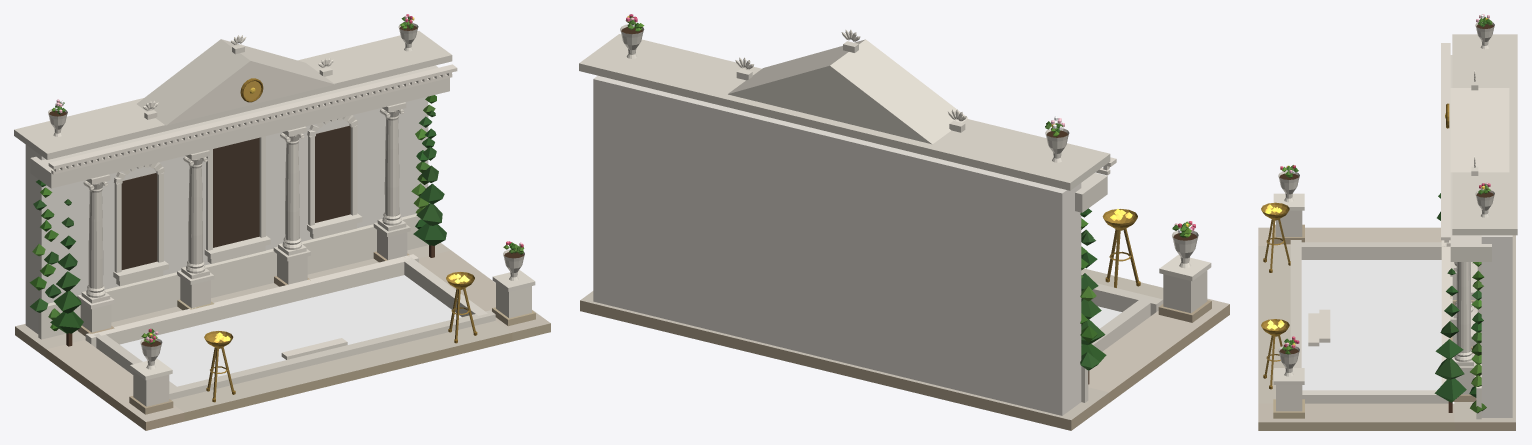
The model's file is mon_nymphaeum.glb.
The picture shows the model from 3 angles, left to right: view 1: azimuth 30°, elevation 25°; view 2: azimuth 150°, elevation 25°; view 3: azimuth 270°, elevation 25°; orthographic projection. The views are drawn at different scales.
Parts seen in each view (by area): view 1: House; view 2: House; view 3: House.
Boxes of the visible parts, x1,y1,x2,y2 form: House: (14, 14, 550, 430); House: (579, 14, 1229, 430); House: (1258, 14, 1517, 430).
Bounding box in the file's own units: 6.73 × 4.21 × 3.78.
Materials: 6 (6 with a texture image).
